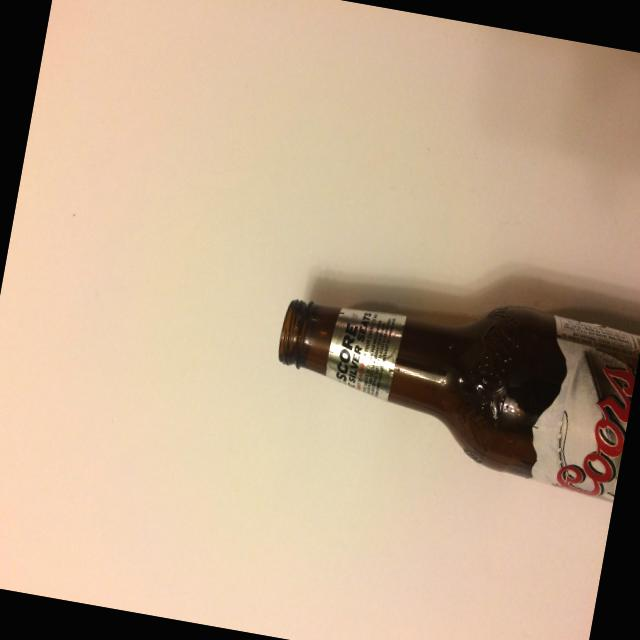Glass: (256, 264, 640, 499)
